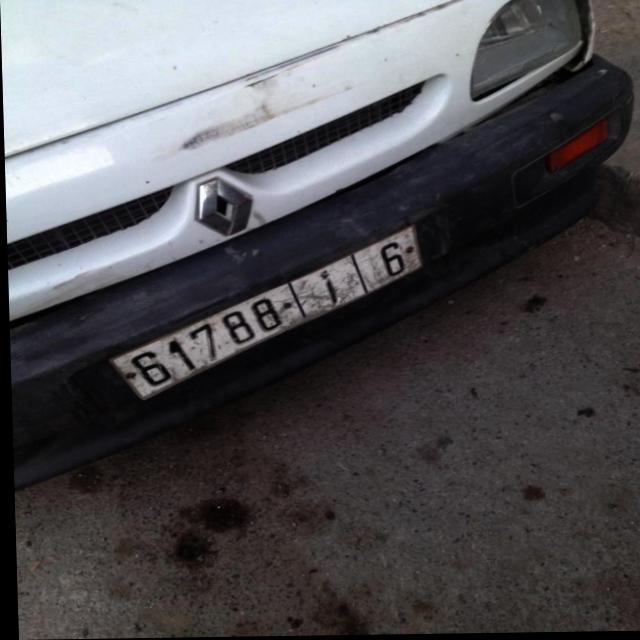License-Plate: (108, 228, 421, 399)
